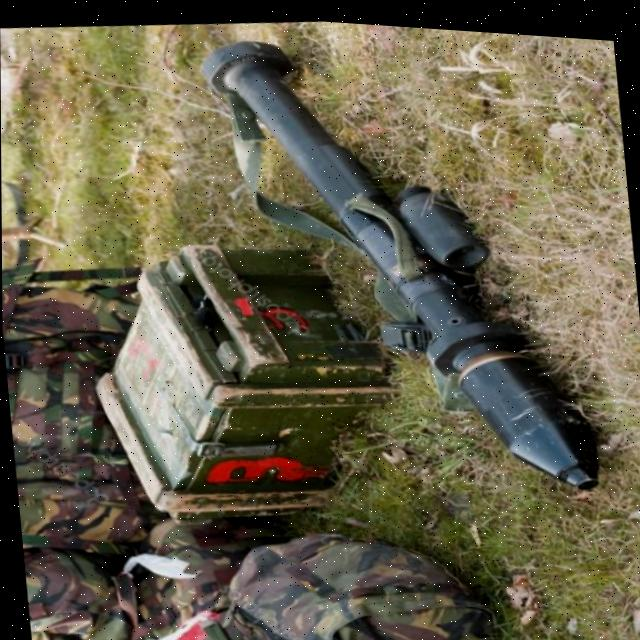rocket: (197, 10, 617, 512)
